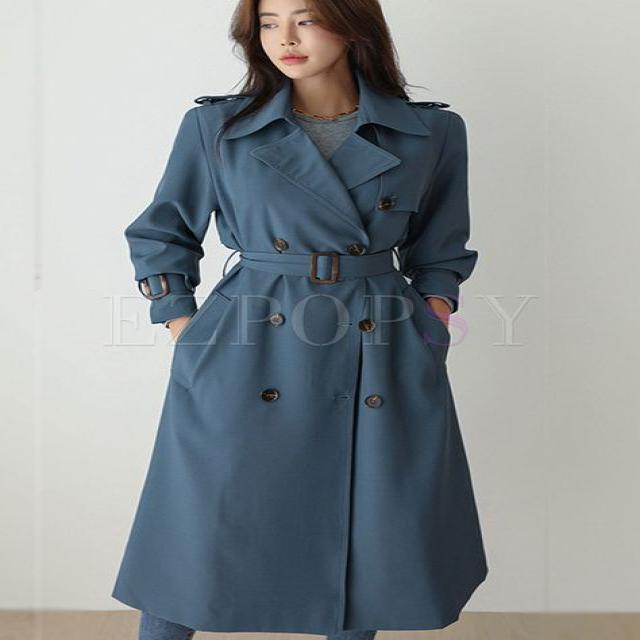coat: (110, 69, 494, 635)
